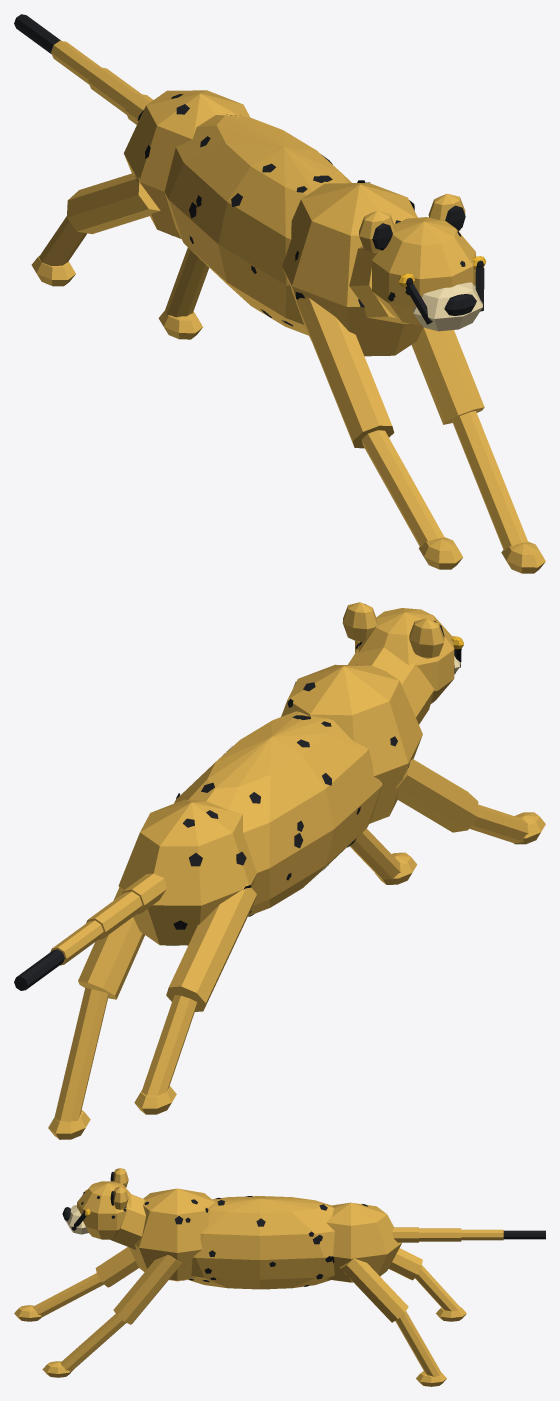
File: cheetah.glb
3 renders of one model, top to bottom at view 1: azimuth 30°, elevation 25°; view 2: azimuth 150°, elevation 25°; view 3: azimuth 270°, elevation 25°, orthographic. The views are drawn at different scales.
Parts seen in each view (by area): view 1: cheetah body; view 2: cheetah body; view 3: cheetah body.
Boxes of the visible parts, x1,y1,x2,y2 form: cheetah body: (14,14,545,573); cheetah body: (14,602,545,1139); cheetah body: (14,1168,545,1386).
Size of the model in its own units: 0.386 by 0.8849 by 2.2.
